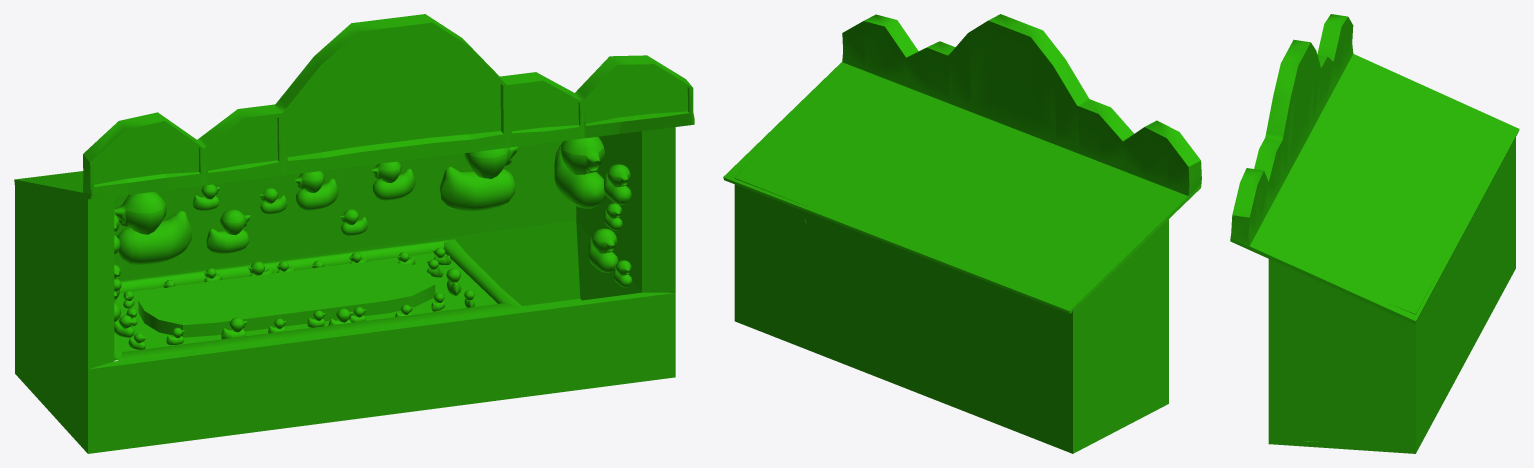
File: DuckGame.fbx
3 renders of one model, left to right at view 1: azimuth 30°, elevation 25°; view 2: azimuth 150°, elevation 25°; view 3: azimuth 270°, elevation 25°, orthographic. The views are drawn at different scales.
Parts seen in each view (by area): view 1: Building, Roof2, RubberDuck12, RubberDuck13, RubberDuck1, RubberDuck14, RubberDuck16, RubberDuck15, RubberDuck3, RubberDuck6; view 2: Roof2, Building; view 3: Roof2, Building.
Boxes of the visible parts, <box> form: Building: <box>15,127,675,453</box>; Roof2: <box>14,14,694,199</box>; RubberDuck12: <box>114,191,192,264</box>; RubberDuck13: <box>439,146,517,211</box>; RubberDuck1: <box>554,136,605,208</box>; RubberDuck14: <box>206,209,250,253</box>; RubberDuck16: <box>294,171,338,210</box>; RubberDuck15: <box>371,161,415,200</box>; RubberDuck3: <box>588,228,618,272</box>; RubberDuck6: <box>604,164,631,204</box>; Roof2: <box>723,14,1201,313</box>; Building: <box>734,161,1168,453</box>; Roof2: <box>1230,14,1519,324</box>; Building: <box>1268,137,1515,453</box>.
Size of the model in its own units: 8.38 by 5.59 by 4.93.
